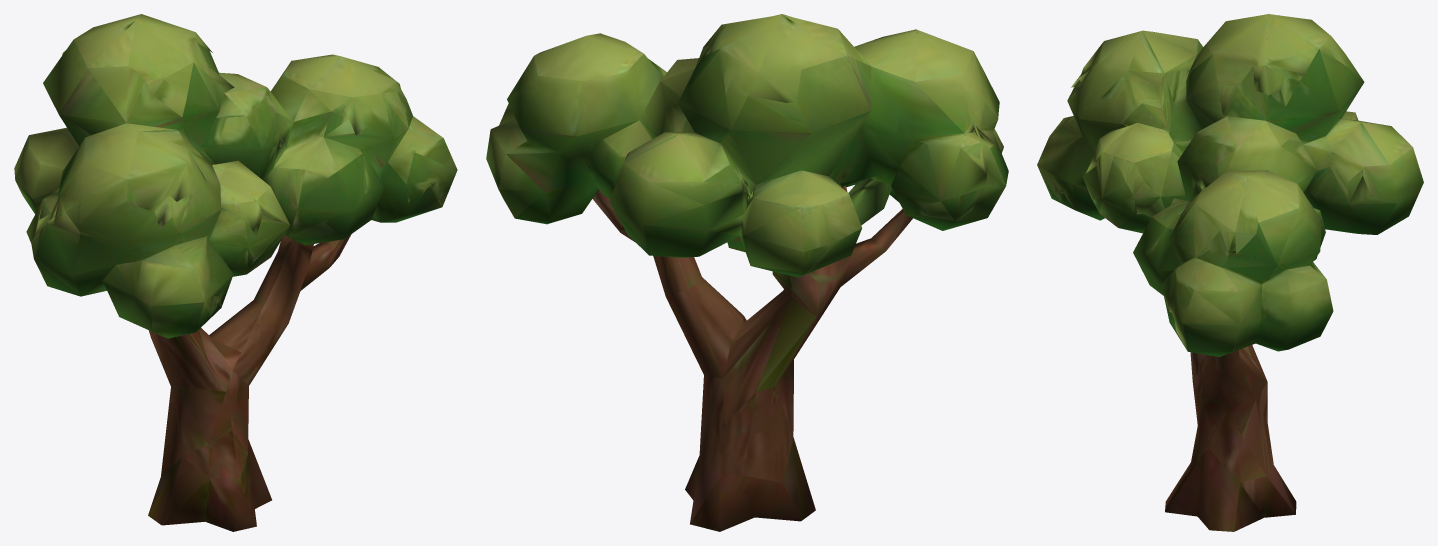
The model's file is latifoliada.glb.
The picture shows the model from 3 angles, left to right: view 1: azimuth 30°, elevation 25°; view 2: azimuth 150°, elevation 25°; view 3: azimuth 270°, elevation 25°; orthographic projection. The views are drawn at different scales.
Parts seen in each view (by area): view 1: Mesh_0; view 2: Mesh_0; view 3: Mesh_0.
Part boxes in pixels (box(x1,y1,x2,y2)): Mesh_0: box(14, 14, 457, 531); Mesh_0: box(486, 14, 1008, 531); Mesh_0: box(1037, 14, 1423, 531).
Bounding box in the file's own units: 1.8 × 1.91 × 1.43.
Materials: 1 (1 with a texture image).
